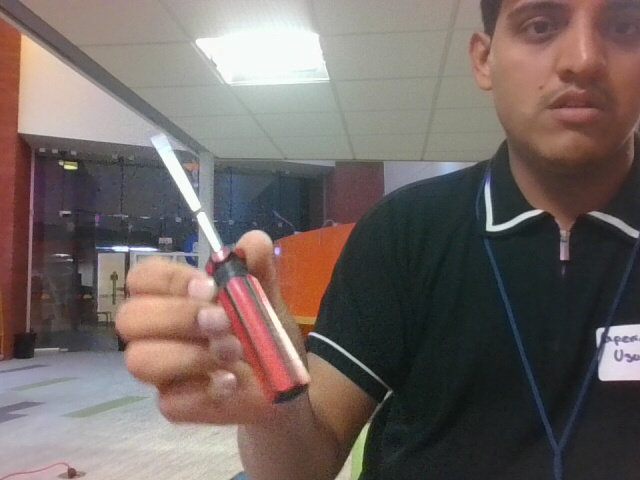destornillador: (150, 131, 309, 401)
